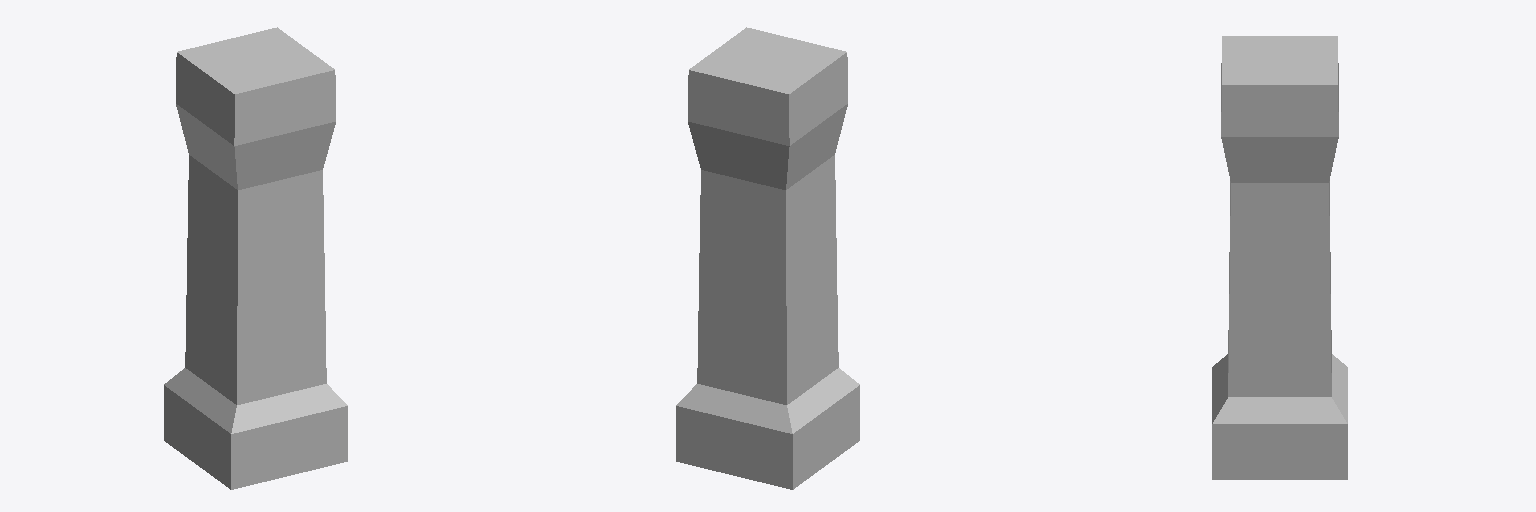
Rendered from Tower.obj.
3 views of the same model, side by side, from view 1: azimuth 30°, elevation 25°; view 2: azimuth 150°, elevation 25°; view 3: azimuth 270°, elevation 25° (orthographic).
Parts seen in each view (by area): view 1: Cube_Cube.001; view 2: Cube_Cube.001; view 3: Cube_Cube.001.
Part boxes in pixels (bbox=[...]): Cube_Cube.001: bbox=[164, 27, 347, 489]; Cube_Cube.001: bbox=[676, 27, 859, 489]; Cube_Cube.001: bbox=[1212, 36, 1347, 479].
Bounding box in the file's own units: 2.18 × 6.94 × 2.18.